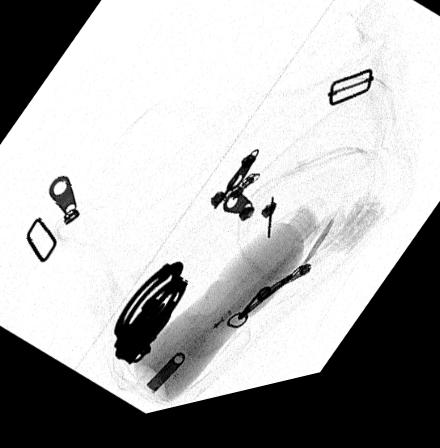HandCuffs: (108, 268, 187, 374)
